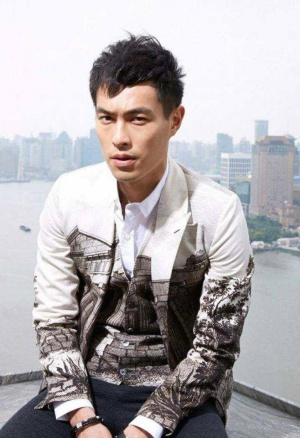male: (72, 25, 206, 198)
